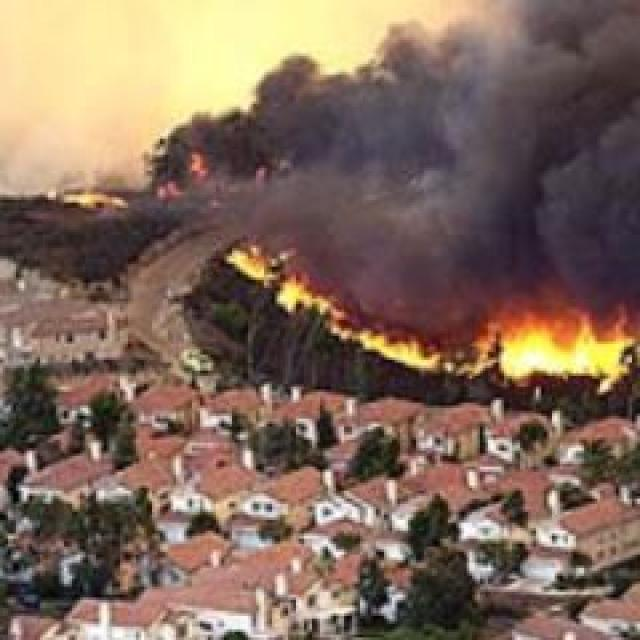Fire: (215, 254, 624, 374)
Smoke: (179, 0, 640, 308)
